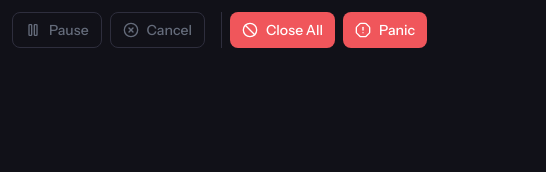
Controls › shows a success confirmation once a command is sent
Click the button "Pause" at (57, 30), box 12,12 -> 102,48
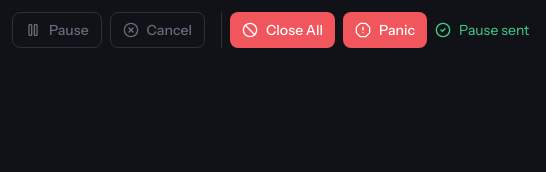
Now the message reads "Pause sent", box 435,20 -> 529,40
